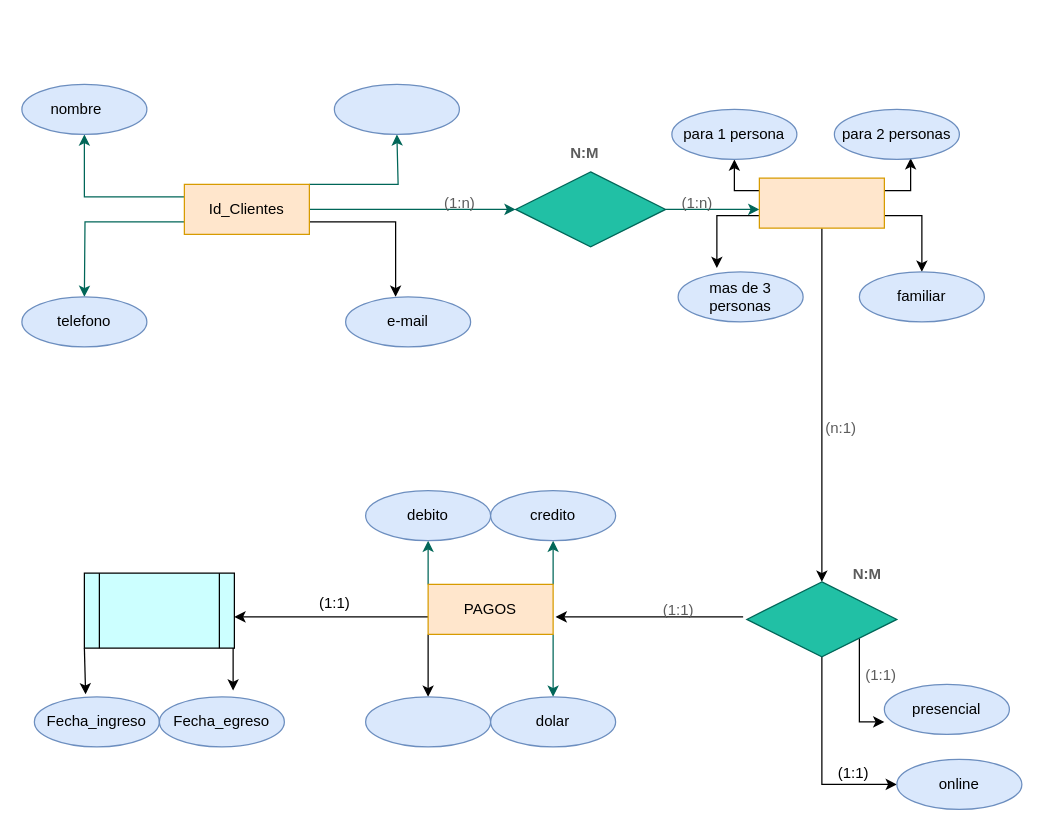
Some shapes in this 1044 by 831 pixel diagram are drawn without their labels. Here are the shapes that lost their labels. From the top down, the centre of each, then its label:
point (396, 108): apellido
point (590, 209): Id_Reservas
point (821, 202): Id_Cabañas
point (158, 610): RESERVA EXITOSA
point (821, 619): Abonos
point (427, 721): pesos
